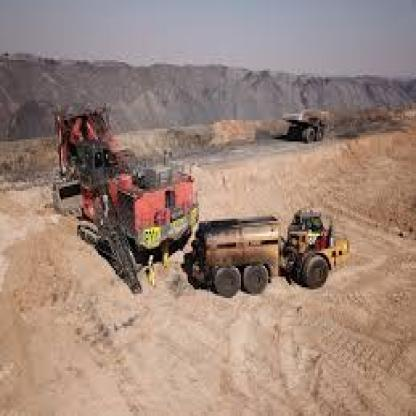dump_truck: (280, 99, 338, 150)
excavator: (27, 92, 201, 326)
